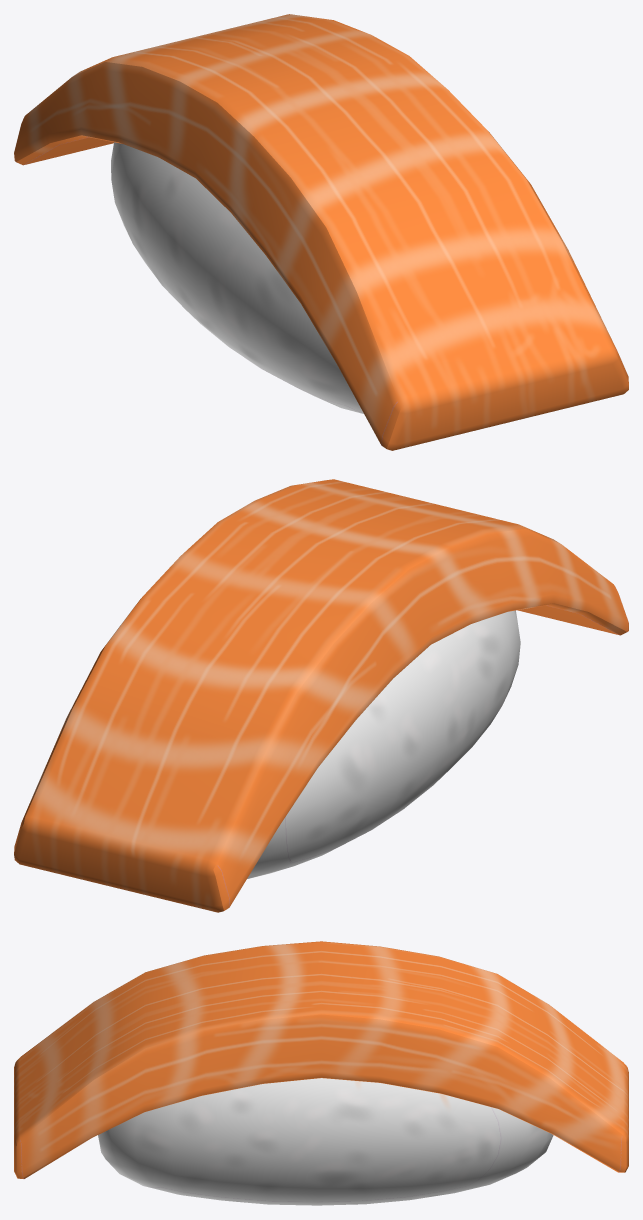
The model's file is sushi_samon.fbx.
3 renders of one model, top to bottom at view 1: azimuth 30°, elevation 25°; view 2: azimuth 150°, elevation 25°; view 3: azimuth 270°, elevation 25°, orthographic. The views are drawn at different scales.
Parts seen in each view (by area): view 1: Neta_Samon, Shari_Samon; view 2: Neta_Samon, Shari_Samon; view 3: Neta_Samon, Shari_Samon.
Boxes of the visible parts, bbox=[...] form: Neta_Samon: bbox=[14, 14, 628, 450]; Shari_Samon: bbox=[111, 142, 363, 413]; Neta_Samon: bbox=[14, 479, 628, 912]; Shari_Samon: bbox=[247, 610, 520, 878]; Neta_Samon: bbox=[14, 941, 628, 1178]; Shari_Samon: bbox=[98, 1078, 553, 1205].
Bounding box in the file's own units: 0.8996 × 0.9398 × 2.42.
1 material, 1 textured.
